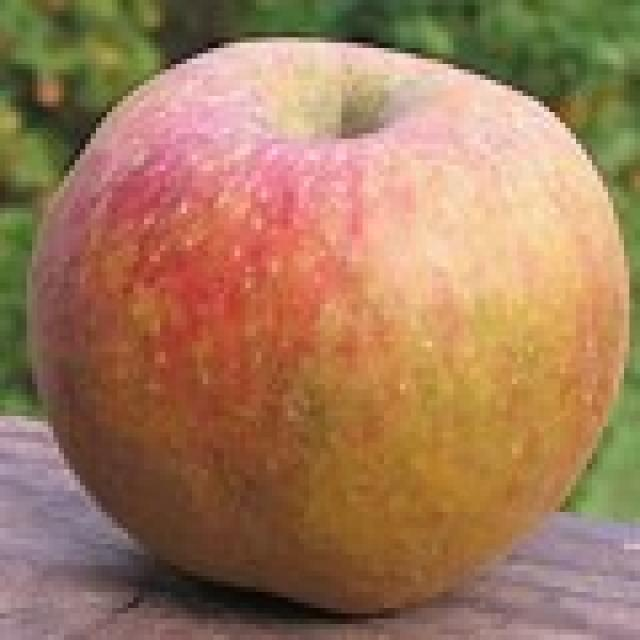apple: (24, 35, 629, 618)
